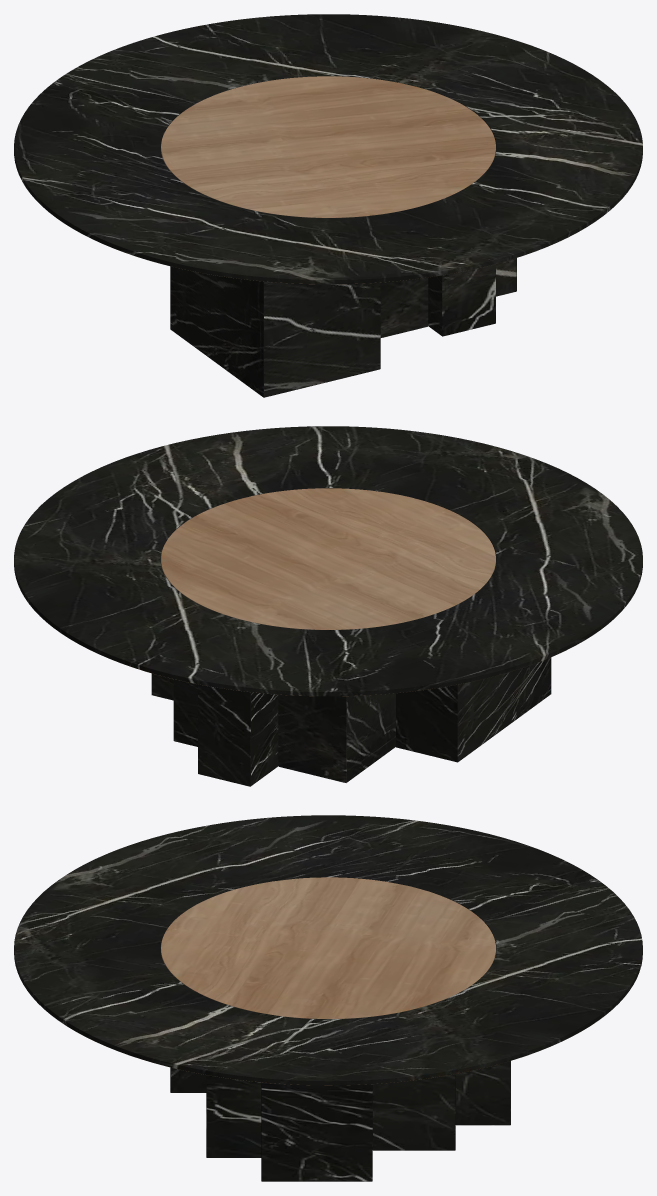
The model's file is Modern Table.glb.
3 views of the same model, one above another, from view 1: azimuth 30°, elevation 25°; view 2: azimuth 150°, elevation 25°; view 3: azimuth 270°, elevation 25° (orthographic).
Parts seen in each view (by area): view 1: Object_4; view 2: Object_4; view 3: Object_4.
Boxes of the visible parts, x1,y1,x2,y2 form: Object_4: (14,14,642,397); Object_4: (14,426,642,786); Object_4: (14,815,642,1181).
Bounding box in the file's own units: 2.6 × 0.7209 × 2.6.
Materials: 1 (1 with a texture image).
